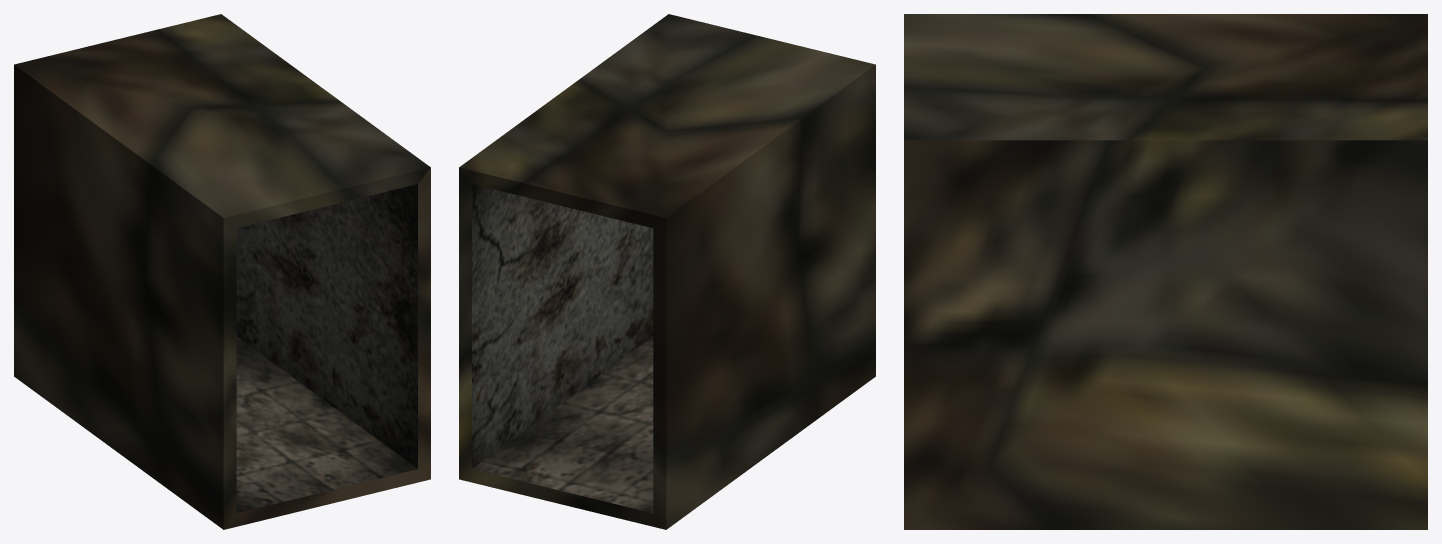
Rendered from hall.glb.
3 views of the same model, side by side, from view 1: azimuth 30°, elevation 25°; view 2: azimuth 150°, elevation 25°; view 3: azimuth 270°, elevation 25° (orthographic). The views are drawn at different scales.
Parts seen in each view (by area): view 1: hall; view 2: hall; view 3: hall.
Boxes of the visible parts, <box> form: hall: <box>14,14,430,529</box>; hall: <box>459,14,875,529</box>; hall: <box>904,14,1427,529</box>.
Size of the model in its own units: 2.28 by 3.28 by 4.
1 material, 1 textured.
